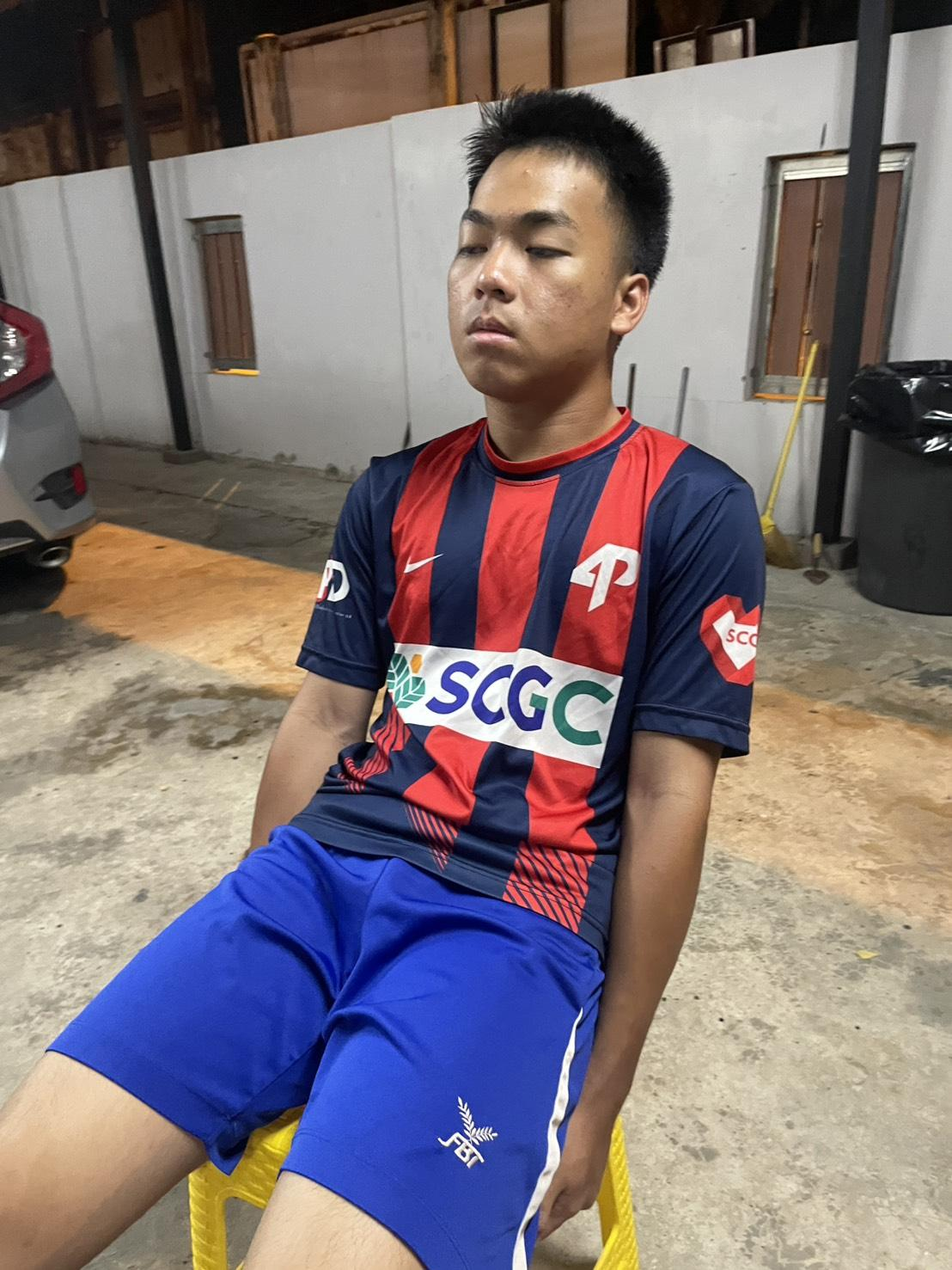BadPosture: (242, 92, 764, 966)
